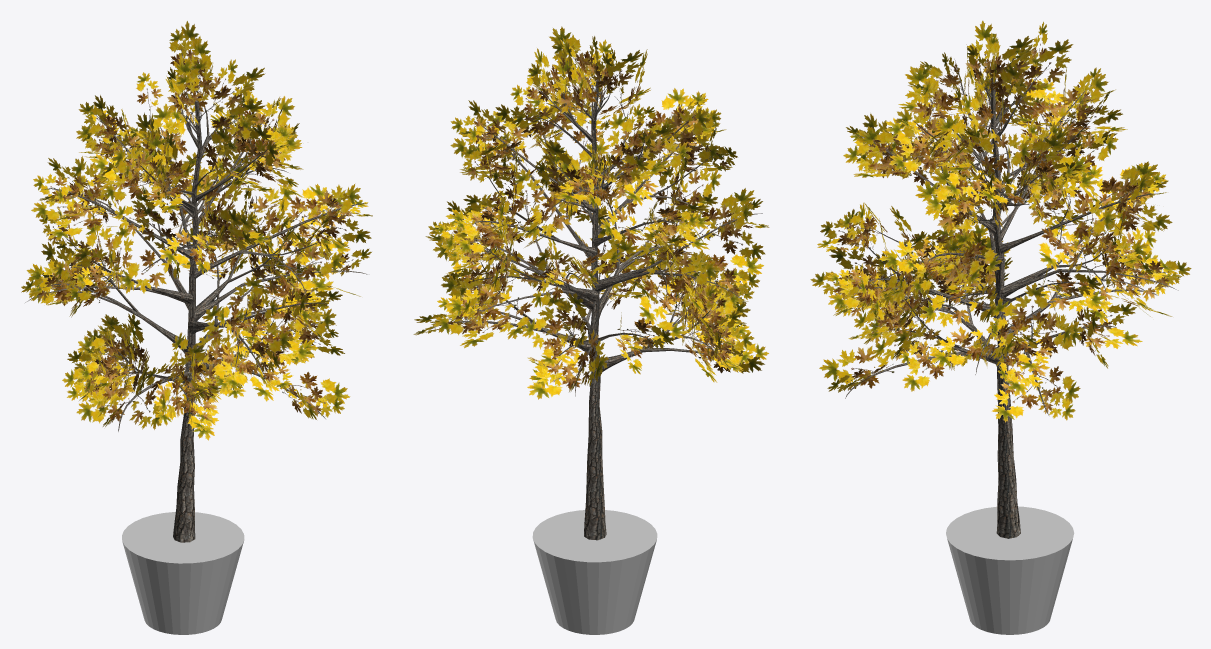
Rendered from potted_maple_tree7.dae.
3 renders of one model, left to right at view 1: azimuth 30°, elevation 25°; view 2: azimuth 150°, elevation 25°; view 3: azimuth 270°, elevation 25°, orthographic. The views are drawn at different scales.
Parts seen in each view (by area): view 1: Cylinder; view 2: Cylinder; view 3: Cylinder.
Part boxes in pixels (x1,y1,x2,y2): Cylinder: (21, 21, 372, 634); Cylinder: (413, 26, 769, 634); Cylinder: (810, 20, 1191, 634).
Bounding box in the file's own units: 1.86 × 1.73 × 2.97.
